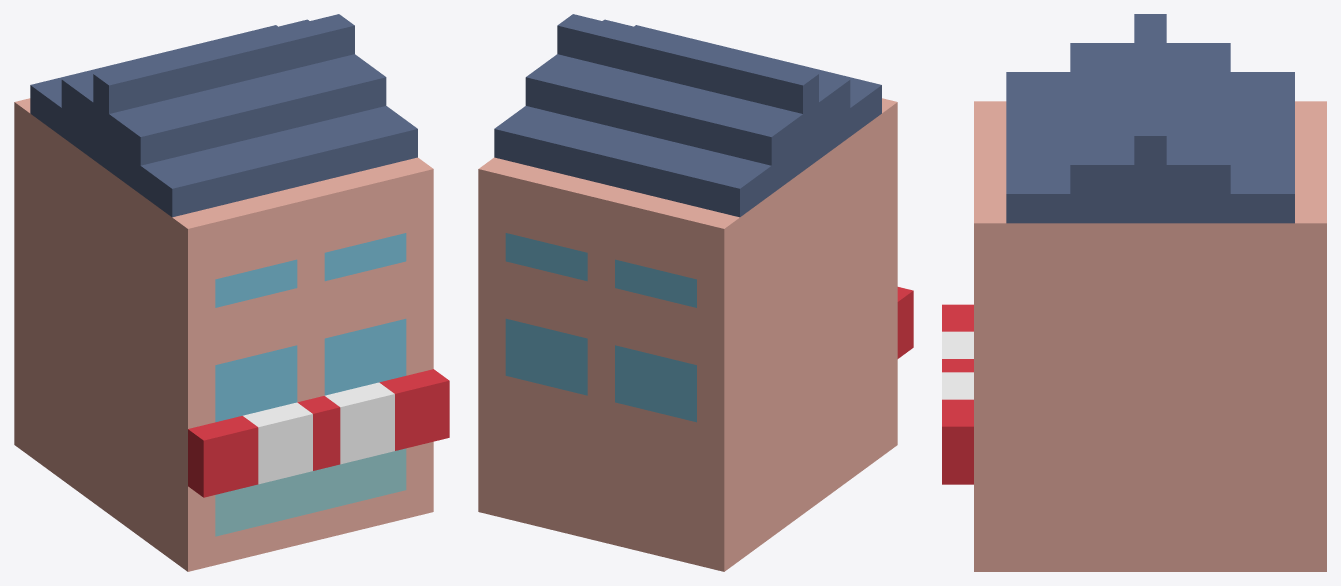
File: shop_3.glb
3 views of the same model, side by side, from view 1: azimuth 30°, elevation 25°; view 2: azimuth 150°, elevation 25°; view 3: azimuth 270°, elevation 25° (orthographic).
Parts seen in each view (by area): view 1: shop_3_wall_pink, shop_3_roof_slate, shop_3_window, shop_3_red, shop_3_glass, shop_3_white; view 2: shop_3_wall_pink, shop_3_roof_slate, shop_3_window, shop_3_red; view 3: shop_3_wall_pink, shop_3_roof_slate, shop_3_red, shop_3_white.
Part boxes in pixels (x1=…): shop_3_wall_pink: x1=14, y1=98, x2=433, y2=571; shop_3_roof_slate: x1=30, y1=14, x2=417, y2=217; shop_3_window: x1=215, y1=233, x2=406, y2=422; shop_3_red: x1=188, y1=369, x2=449, y2=497; shop_3_glass: x1=215, y1=448, x2=406, y2=536; shop_3_white: x1=243, y1=382, x2=394, y2=484; shop_3_wall_pink: x1=478, y1=98, x2=897, y2=571; shop_3_roof_slate: x1=494, y1=14, x2=881, y2=217; shop_3_window: x1=505, y1=233, x2=696, y2=422; shop_3_red: x1=897, y1=287, x2=913, y2=358; shop_3_wall_pink: x1=974, y1=101, x2=1326, y2=571; shop_3_roof_slate: x1=1006, y1=14, x2=1294, y2=223; shop_3_red: x1=942, y1=304, x2=973, y2=484; shop_3_white: x1=942, y1=331, x2=973, y2=399.
Bounding box in the file's own units: 7.86 × 13.1 × 10.48.
